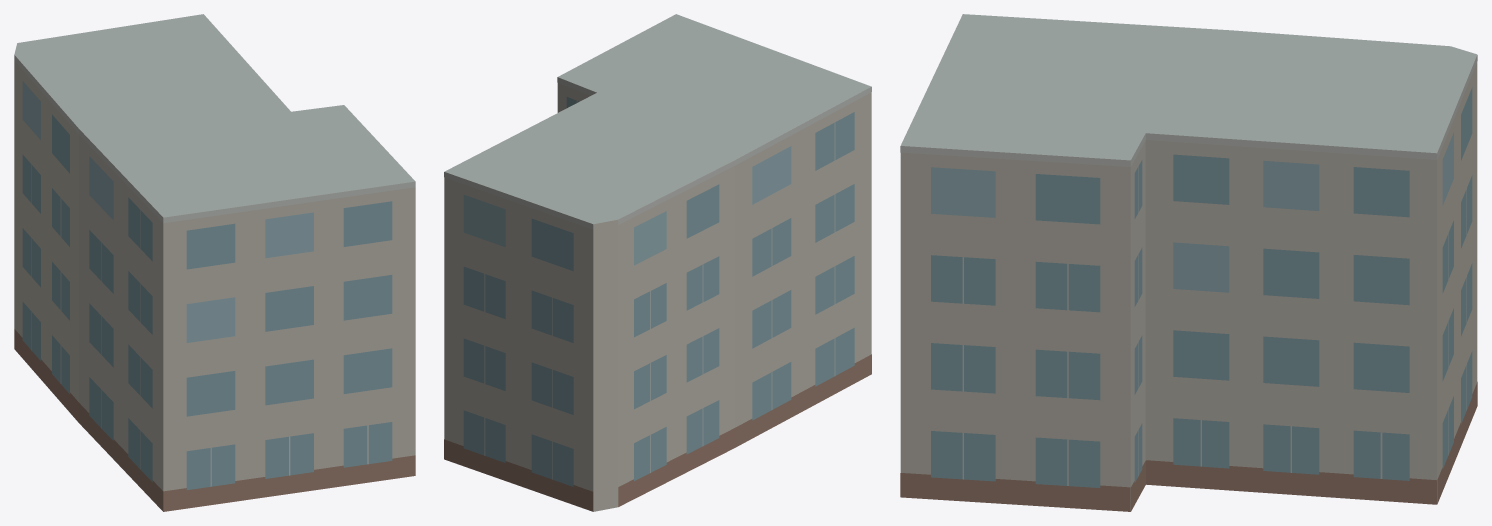
File: survey-upis-32529322.glb
The picture shows the model from 3 angles, left to right: view 1: azimuth 30°, elevation 25°; view 2: azimuth 150°, elevation 25°; view 3: azimuth 270°, elevation 25°; orthographic projection. The views are drawn at different scales.
Parts seen in each view (by area): view 1: survey-upis-32529322.tmp; view 2: survey-upis-32529322.tmp; view 3: survey-upis-32529322.tmp.
Part boxes in pixels (x1,y1,x2,y2): survey-upis-32529322.tmp: [14, 14, 415, 511]; survey-upis-32529322.tmp: [444, 14, 871, 511]; survey-upis-32529322.tmp: [900, 14, 1477, 511].
Size of the model in its own units: 11.44 by 12.8 by 19.06.
